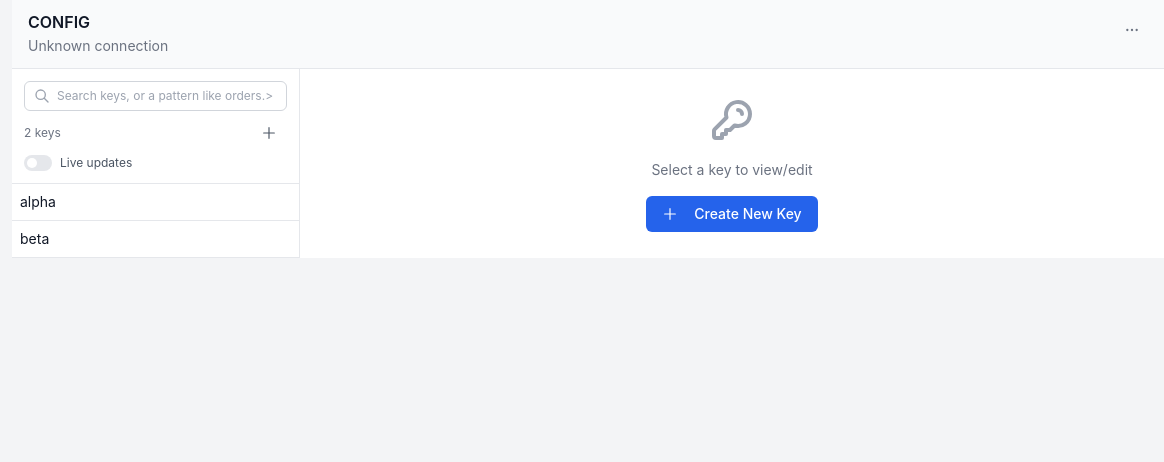
Test: KVStorePage › points to the bucket settings when the bucket allows no TTL per key
Click the button named "New key": coordinates (269, 133) [251,119,287,147]
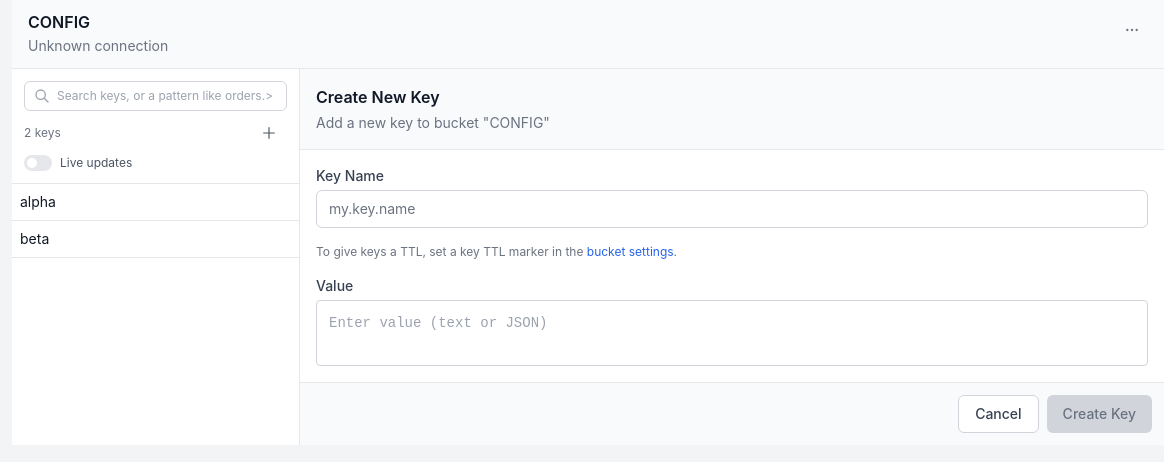
Check: the text "key TTL marker" is shown, box [316,244,583,259]
